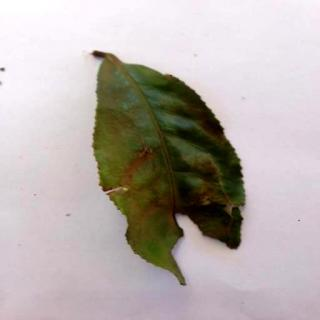Algal Leaf: (91, 48, 249, 288)
